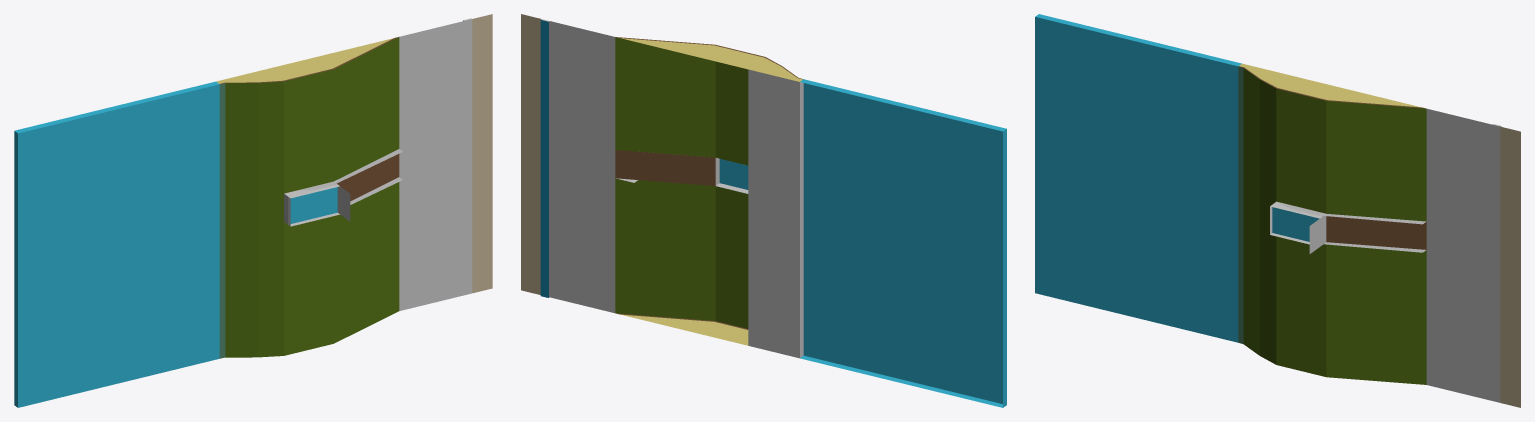
Rendered from ComCoast_Pre.obj.
3 views of the same model, side by side, from view 1: azimuth 30°, elevation 25°; view 2: azimuth 150°, elevation 25°; view 3: azimuth 330°, elevation 25° (orthographic).
Visible parts, largest first — view 1: obj37, obj40, obj22, obj7, obj44, obj41, obj64, obj57, obj15, obj54, obj21, obj43 (+6 smaller); view 2: obj37, obj11, obj7, obj44, obj22, obj41, obj15, obj57, obj54, obj58, obj16, obj20 (+7 smaller); view 3: obj37, obj7, obj44, obj22, obj41, obj57, obj15, obj54, obj64, obj40, obj58, obj21 (+6 smaller).
Part boxes in pixels (x1=…): obj37: x1=18, y1=84, x2=219, y2=407; obj40: x1=225, y1=83, x2=257, y2=357; obj22: x1=399, y1=161, x2=464, y2=310; obj7: x1=333, y1=182, x2=399, y2=343; obj44: x1=333, y1=37, x2=399, y2=180; obj41: x1=399, y1=21, x2=464, y2=148; obj64: x1=257, y1=81, x2=283, y2=357; obj57: x1=284, y1=216, x2=333, y2=355; obj15: x1=472, y1=14, x2=492, y2=293; obj54: x1=284, y1=69, x2=333, y2=193; obj21: x1=465, y1=19, x2=472, y2=294; obj43: x1=219, y1=83, x2=225, y2=358; obj37: x1=803, y1=83, x2=1002, y2=403; obj11: x1=748, y1=69, x2=799, y2=358; obj7: x1=615, y1=178, x2=715, y2=320; obj44: x1=615, y1=37, x2=715, y2=157; obj22: x1=549, y1=162, x2=615, y2=313; obj41: x1=549, y1=21, x2=615, y2=149; obj15: x1=521, y1=14, x2=541, y2=294; obj57: x1=715, y1=186, x2=748, y2=328; obj54: x1=715, y1=61, x2=748, y2=165; obj58: x1=615, y1=150, x2=715, y2=185; obj16: x1=540, y1=20, x2=548, y2=297; obj20: x1=549, y1=134, x2=615, y2=177; obj37: x1=1035, y1=17, x2=1238, y2=342; obj7: x1=1326, y1=244, x2=1426, y2=384; obj44: x1=1326, y1=101, x2=1426, y2=221; obj22: x1=1426, y1=250, x2=1492, y2=400; obj41: x1=1426, y1=108, x2=1492, y2=237; obj57: x1=1276, y1=236, x2=1326, y2=376; obj15: x1=1500, y1=126, x2=1520, y2=407; obj54: x1=1276, y1=88, x2=1326, y2=213; obj64: x1=1259, y1=80, x2=1276, y2=364; obj40: x1=1243, y1=68, x2=1259, y2=355; obj58: x1=1326, y1=216, x2=1426, y2=249; obj21: x1=1492, y1=125, x2=1500, y2=402.
Size of the model in its own units: 2796 by 1532 by 350.
